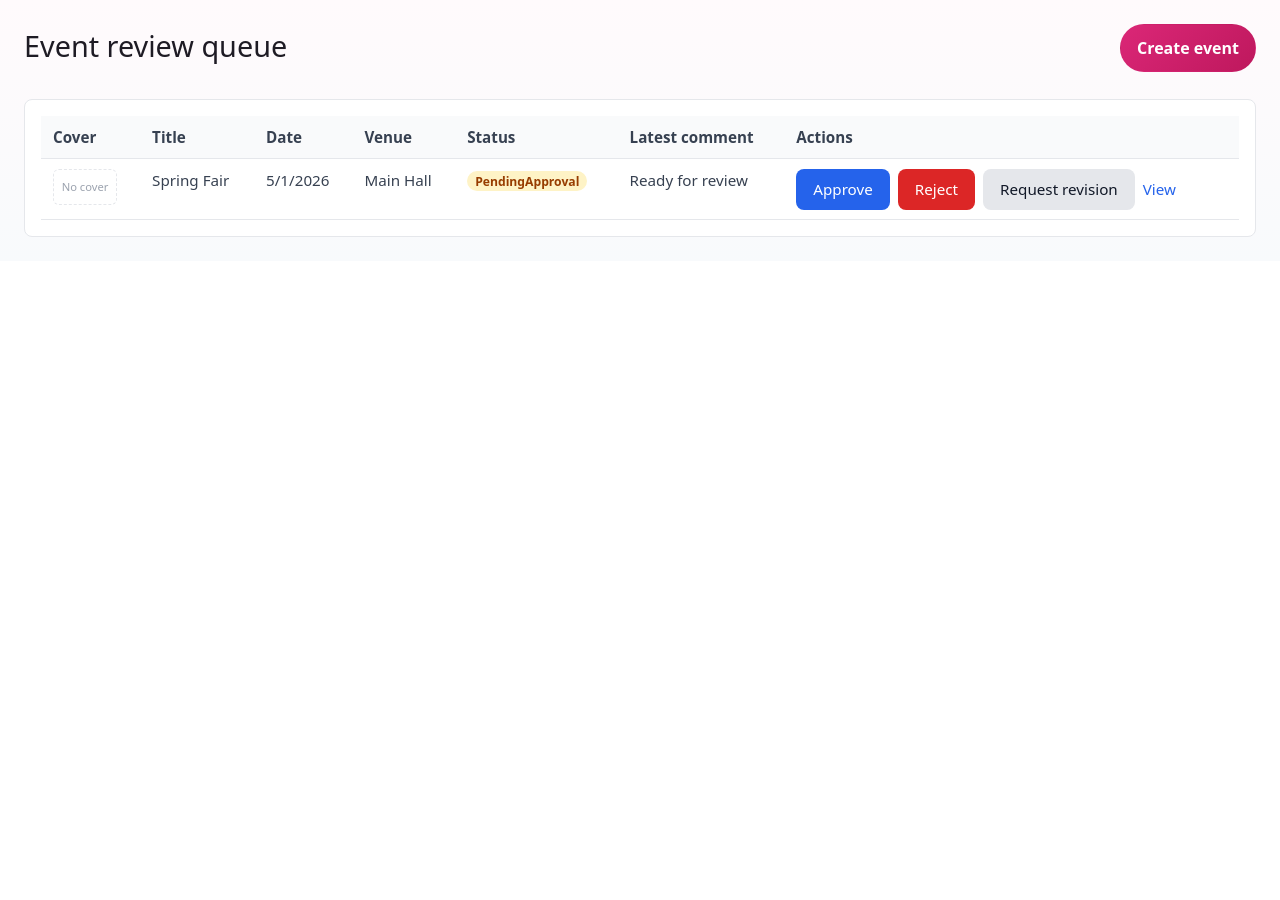
Test: ApprovalQueueView › opens the conflict override modal on 409 and overrides on second confirm
Step 1. Click the button with test id "approve-p1" → (843, 189), box [796, 169, 890, 210]
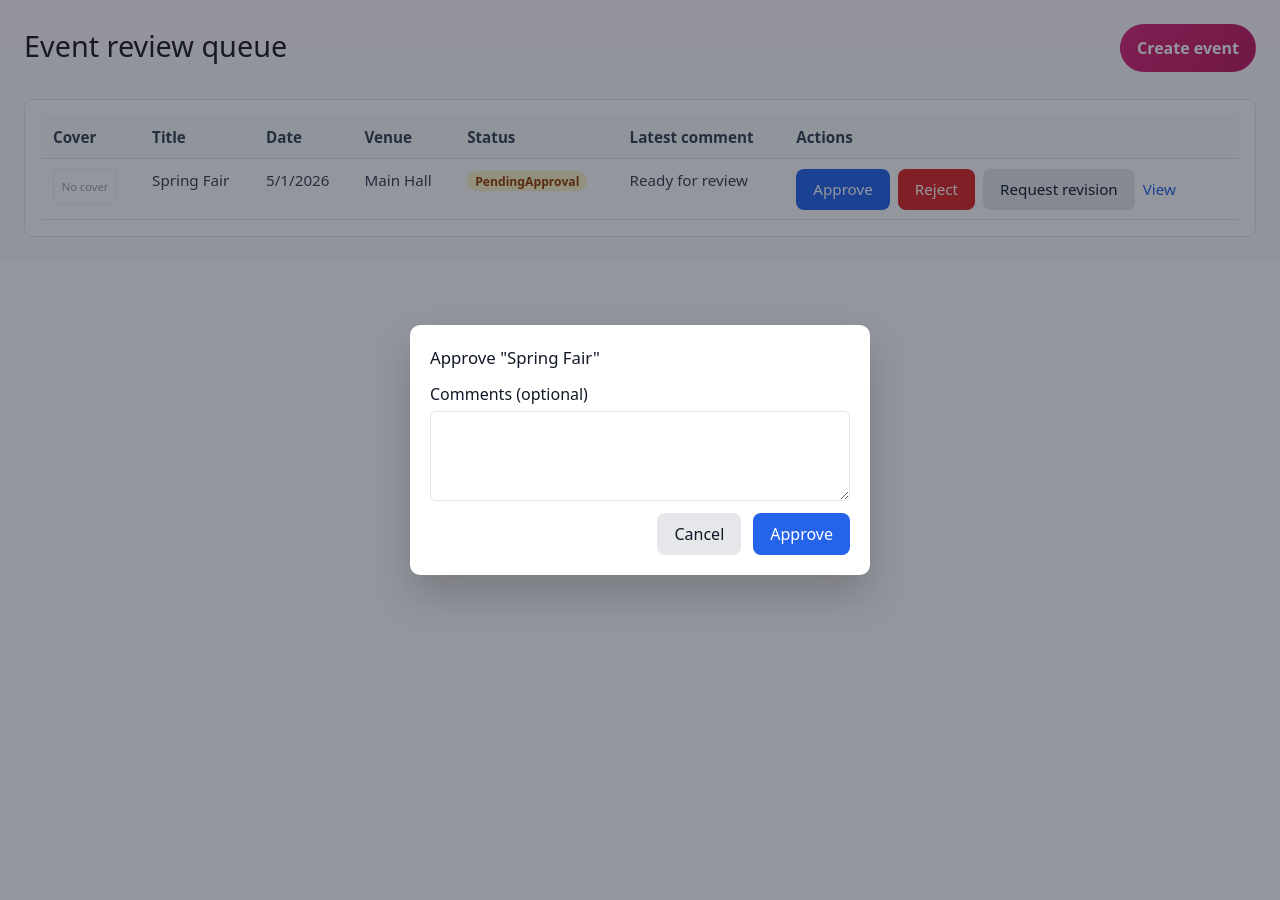
Step 2. Click the button with test id "approval-dialog-confirm" → (802, 534), box [753, 513, 850, 555]
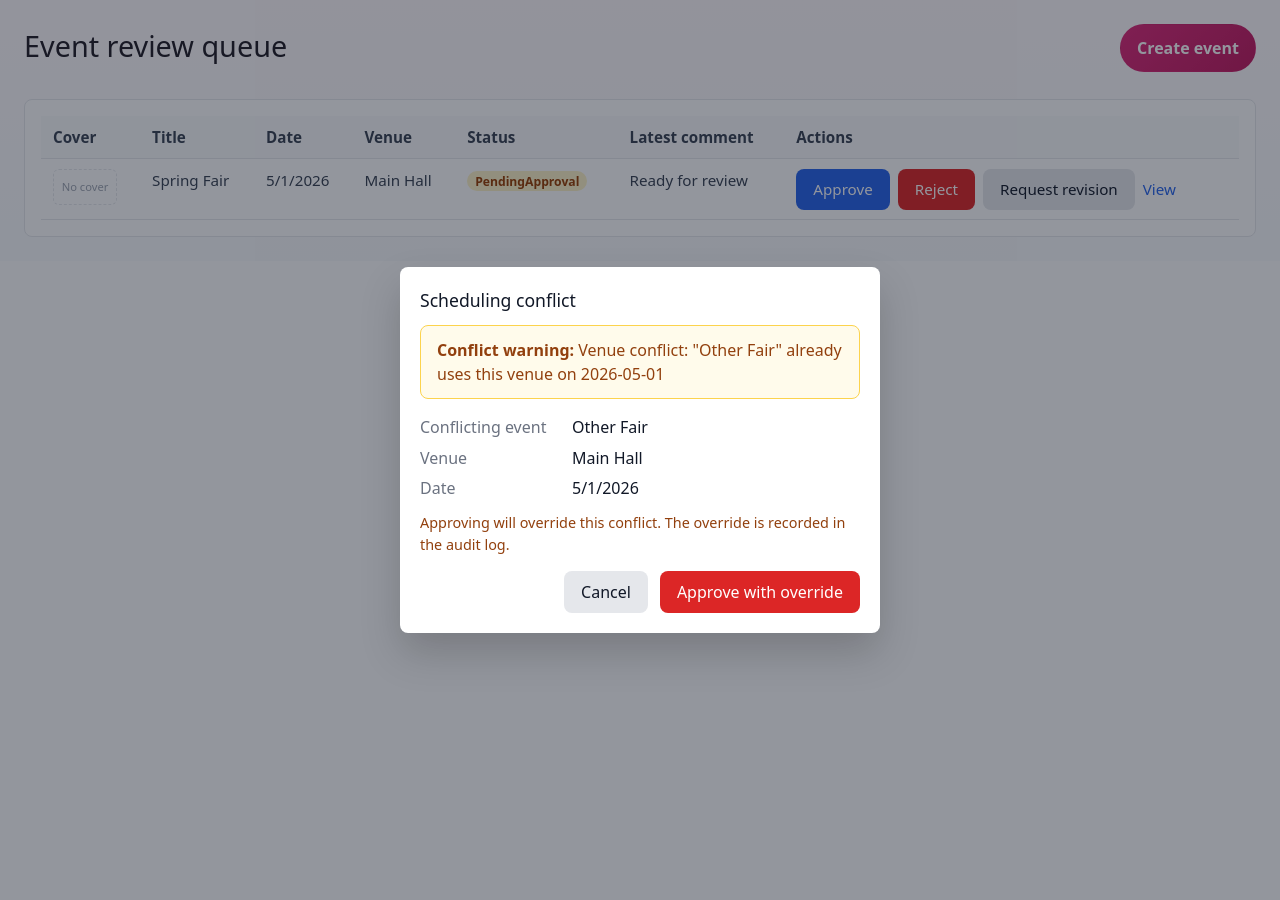
Now the dialog with test id "conflict-override-modal" is shown, box [400, 267, 880, 633]
Now the text with test id "conflict-event-title" reads "Other Fair", box [572, 416, 648, 438]
Now the text with test id "conflict-venue" reads "Main Hall", box [572, 447, 643, 469]
Step 3. Click the button with test id "override-confirm" → (760, 592), box [660, 571, 860, 613]
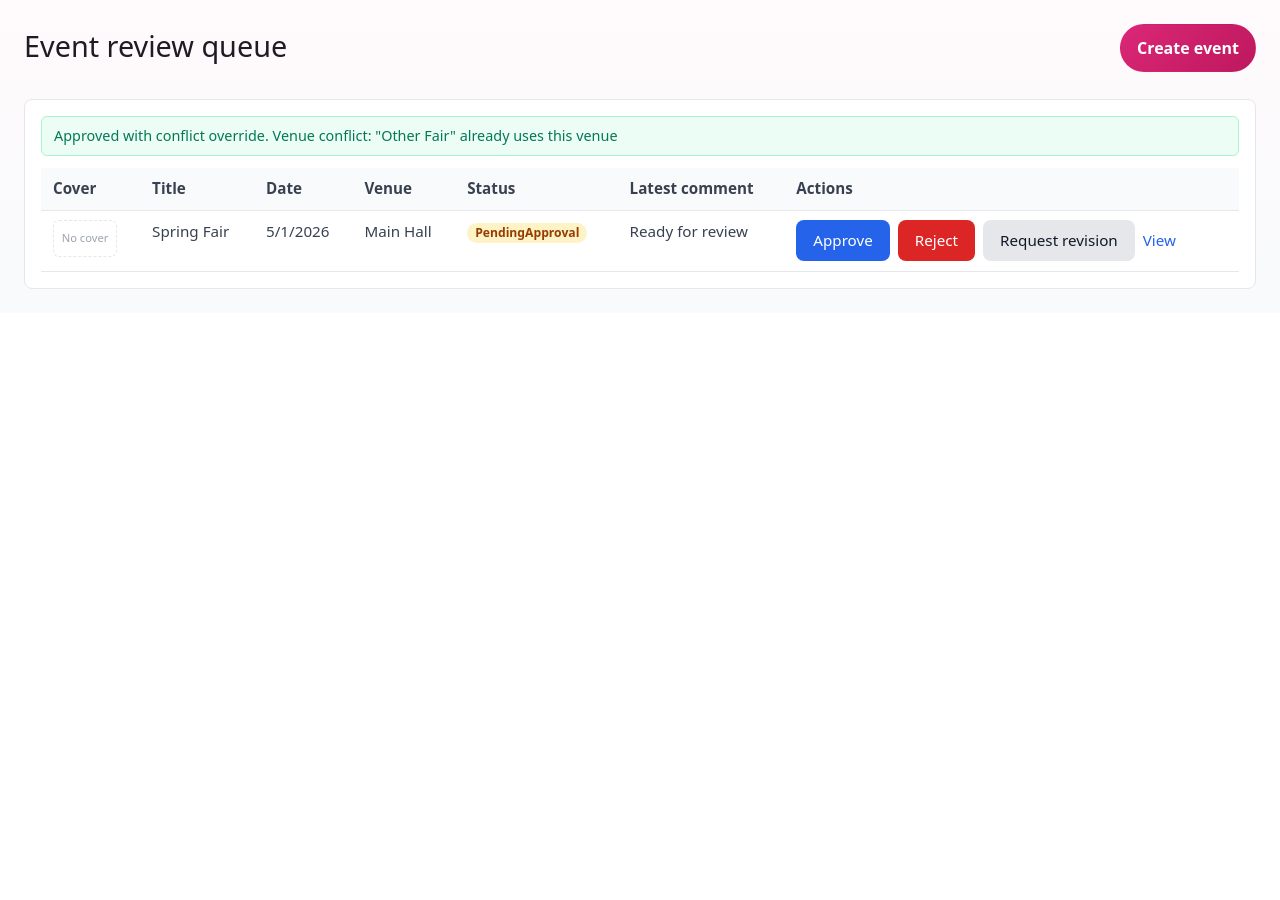
Now the message with test id "approvals-notice" shows "override", box [54, 126, 618, 145]
